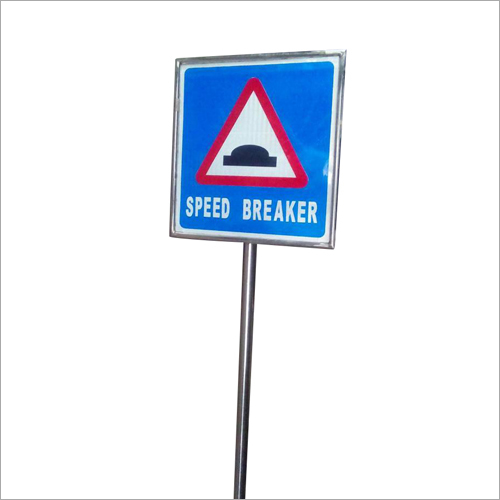speed-breaker: (194, 76, 308, 191)
